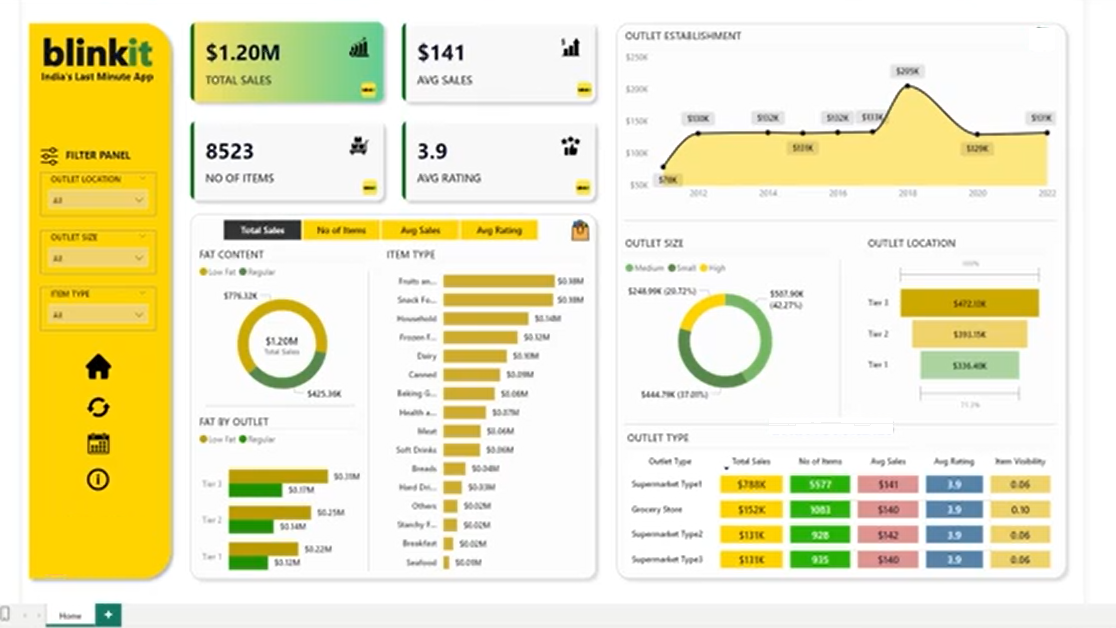

Layout of this report page (visuals, bound fields, positions):
{"tool":"powerbi","page":{"name":"Page 1","canvas":[1400,800],"ordinal":0},"visuals":[{"type":"shape","box":[10,0,205,750],"z":0},{"type":"textbox","box":[10.5,18,190.6,88.6],"z":1000},{"type":"textbox","box":[19.5,76.5,186.1,30],"z":2000},{"type":"cardVisual","fields":{"Data":["BlinkIT Grocery Data.Total Sales","BlinkIT Grocery Data.AVG SALES","BlinkIT Grocery Data.NO OF ITEMS","BlinkIT Grocery Data.AVG RATING"]},"box":[229.6,0,570.3,270.2],"z":3000},{"type":"shape","box":[229.6,270.2,570.3,499.8],"z":4000},{"type":"slicer","fields":{"Values":["Parameter.Parameter"]},"box":[262.7,286.7,465.3,40.5],"z":5000},{"type":"donutChart","title":"FAT CONTENT","fields":{"Y":["BlinkIT Grocery Data.Total Sales"],"Category":["BlinkIT Grocery Data.Item Fat Content"]},"box":[247.6,337.7,346.7,211.6],"z":6000},{"type":"cardVisual","fields":{"Data":["BlinkIT Grocery Data.Total Sales"]},"box":[376.7,420.2,151.6,90.1],"z":7000},{"type":"clusteredBarChart","title":"ITEM TYPE","fields":{"Y":["BlinkIT Grocery Data.Total Sales"],"Category":["BlinkIT Grocery Data.Item Type"]},"box":[552.3,337.7,219.1,412.7],"z":8000},{"type":"clusteredBarChart","title":"FAT BY OUTLET","fields":{"Y":["BlinkIT Grocery Data.Total Sales"],"Category":["BlinkIT Grocery Data.Outlet Location Type"],"Series":["BlinkIT Grocery Data.Item Fat Content"]},"box":[241.6,532.8,310.7,217.6],"z":9000},{"type":"shape","box":[800,0,585.3,775.9],"z":10000},{"type":"lineChart","title":"OUTLET ESTABLISHMENT","fields":{"Y":["BlinkIT Grocery Data.Total Sales"],"Category":["BlinkIT Grocery Data.Outlet Establishment Year"]},"box":[830,18,517.8,249.1],"z":11000},{"type":"donutChart","title":"OUTLET SIZE","fields":{"Category":["BlinkIT Grocery Data.Outlet Size"],"Y":["BlinkIT Grocery Data.Total Sales"]},"box":[815,301.7,322.7,219.1],"z":12000},{"type":"funnel","title":"OUTLET LOCATION","fields":{"Category":["BlinkIT Grocery Data.Outlet Location Type"],"Y":["BlinkIT Grocery Data.Total Sales"]},"box":[1137.7,289.7,231.1,243.1],"z":13000},{"type":"pivotTable","title":"OUTLET TYPE","fields":{"Rows":["BlinkIT Grocery Data.Outlet Type"],"Values":["BlinkIT Grocery Data.Total Sales","BlinkIT Grocery Data.NO OF ITEMS","BlinkIT Grocery Data.AVG SALES","BlinkIT Grocery Data.AVG RATING","Sum(BlinkIT Grocery Data.Item Visibility)"]},"box":[815,550.8,532.8,199.6],"z":14000},{"type":"slicer","fields":{"Values":["BlinkIT Grocery Data.Outlet Location Type"]},"box":[27,204.1,174.1,66],"z":14001},{"type":"slicer","fields":{"Values":["BlinkIT Grocery Data.Outlet Size"]},"box":[27,289.7,171.1,69],"z":14002},{"type":"slicer","fields":{"Values":["BlinkIT Grocery Data.Item Type"]},"box":[27,376.7,171.1,69],"z":14003},{"type":"textbox","box":[27,153.1,160.6,39],"z":14004}]}

Visuals, with their boxes on the page's 1400x800 design canvas (x1, y1, x2, y2). These are canvas units, not pixel positions in the 1116x628 screenshot, which may show the page scaled, cropped or inside an application window:
shape: crop(10, 0, 215, 750)
textbox: crop(10, 18, 201, 107)
textbox: crop(20, 76, 206, 106)
cardVisual - BlinkIT Grocery Data.Total Sales x BlinkIT Grocery Data.AVG SALES: crop(230, 0, 800, 270)
shape: crop(230, 270, 800, 770)
slicer - Parameter.Parameter: crop(263, 287, 728, 327)
"FAT CONTENT" donutChart: crop(248, 338, 594, 549)
cardVisual - BlinkIT Grocery Data.Total Sales: crop(377, 420, 528, 510)
"ITEM TYPE" clusteredBarChart: crop(552, 338, 771, 750)
"FAT BY OUTLET" clusteredBarChart: crop(242, 533, 552, 750)
shape: crop(800, 0, 1385, 776)
"OUTLET ESTABLISHMENT" lineChart: crop(830, 18, 1348, 267)
"OUTLET SIZE" donutChart: crop(815, 302, 1138, 521)
"OUTLET LOCATION" funnel: crop(1138, 290, 1369, 533)
"OUTLET TYPE" pivotTable: crop(815, 551, 1348, 750)
slicer - BlinkIT Grocery Data.Outlet Location Type: crop(27, 204, 201, 270)
slicer - BlinkIT Grocery Data.Outlet Size: crop(27, 290, 198, 359)
slicer - BlinkIT Grocery Data.Item Type: crop(27, 377, 198, 446)
textbox: crop(27, 153, 188, 192)
